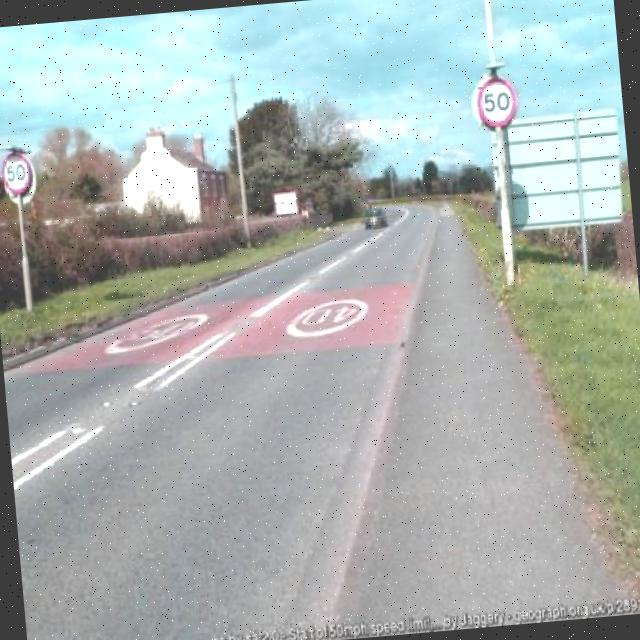Ograniczenie predkosci do 50: (470, 72, 522, 131), (0, 145, 36, 195)
